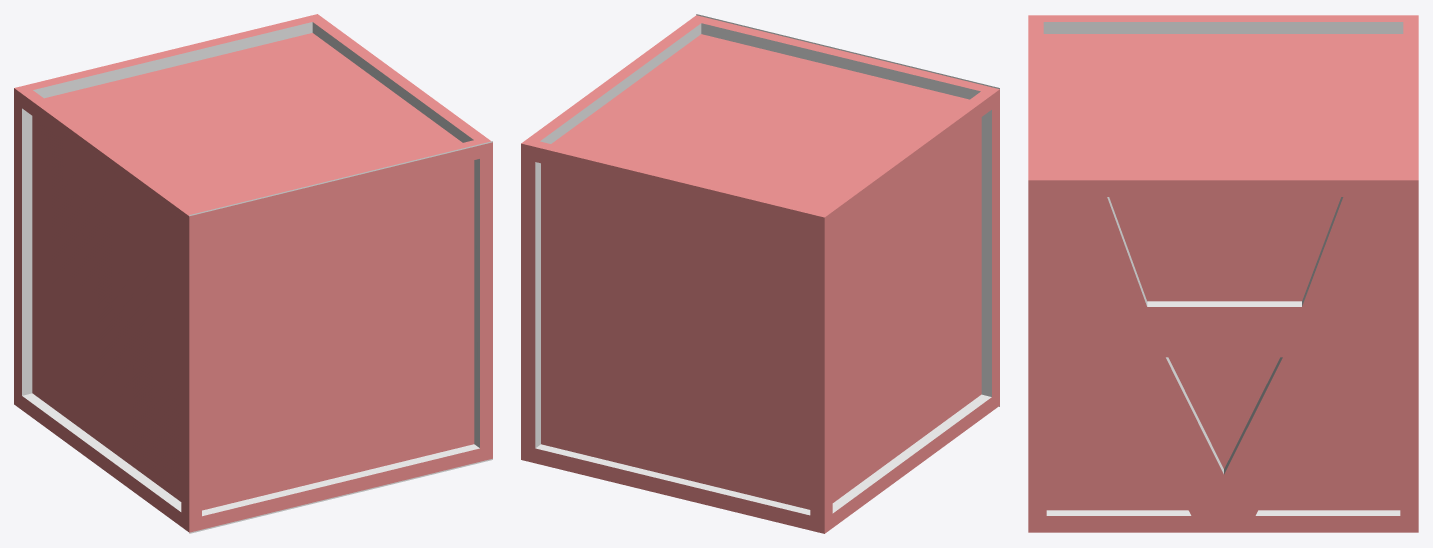
3 renders of one model, left to right at view 1: azimuth 30°, elevation 25°; view 2: azimuth 150°, elevation 25°; view 3: azimuth 270°, elevation 25°, orthographic. The views are drawn at different scales.
Parts seen in each view (by area): view 1: SketchUp (×9); view 2: SketchUp (×8); view 3: SketchUp (×11).
Part boxes in pixels (left/top/right/bottom): SketchUp (×9): left=14, top=14, right=492, bottom=533; SketchUp (×8): left=521, top=14, right=999, bottom=533; SketchUp (×11): left=1028, top=15, right=1418, bottom=532.
Size of the model in its own units: 4.01 by 4.01 by 4.03.
